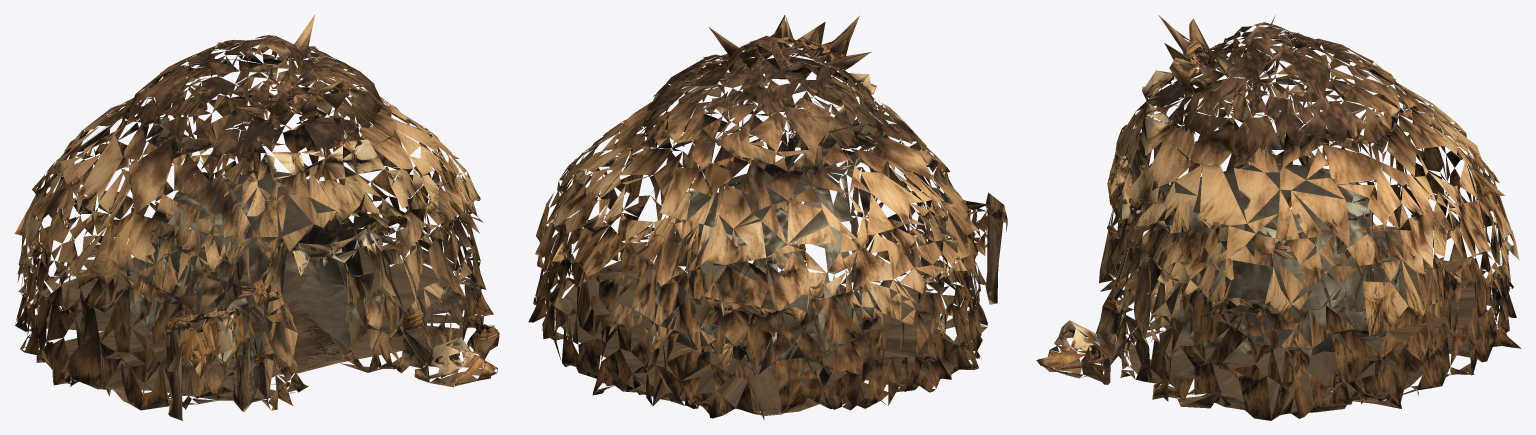
The model's file is zahnhaus2.glb.
The picture shows the model from 3 angles, left to right: view 1: azimuth 30°, elevation 25°; view 2: azimuth 150°, elevation 25°; view 3: azimuth 270°, elevation 25°; orthographic projection. The views are drawn at different scales.
Size of the model in its own units: 1.88 by 1.27 by 1.87.
1 material, 1 textured.
